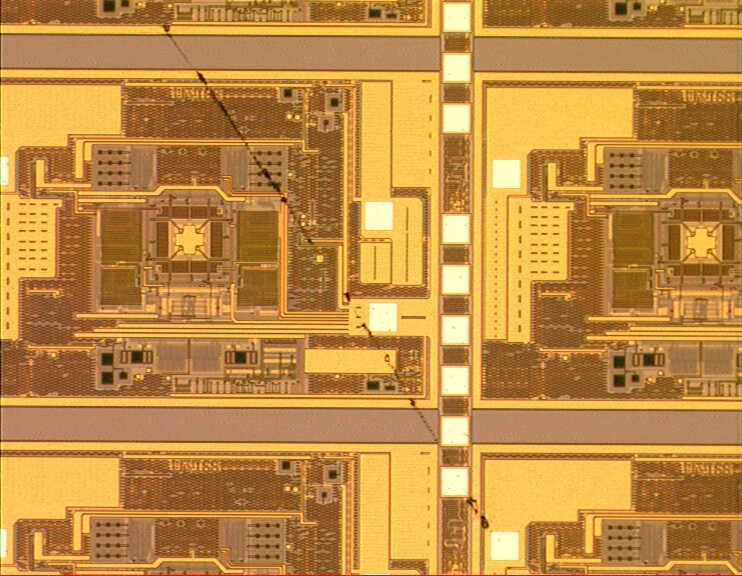SCRATCH: (137, 2, 522, 576)
